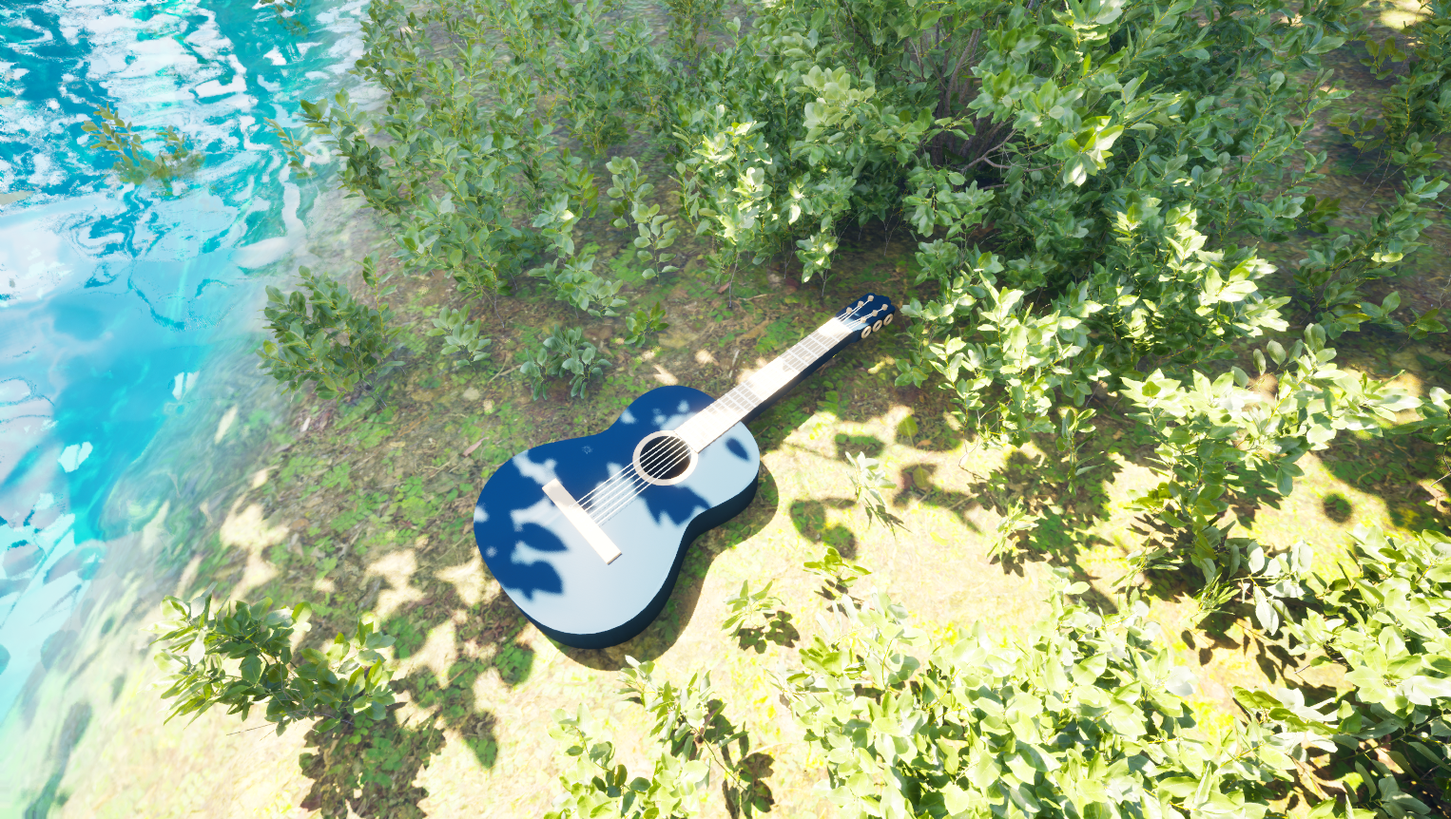Guitar: (440, 248, 961, 689)
